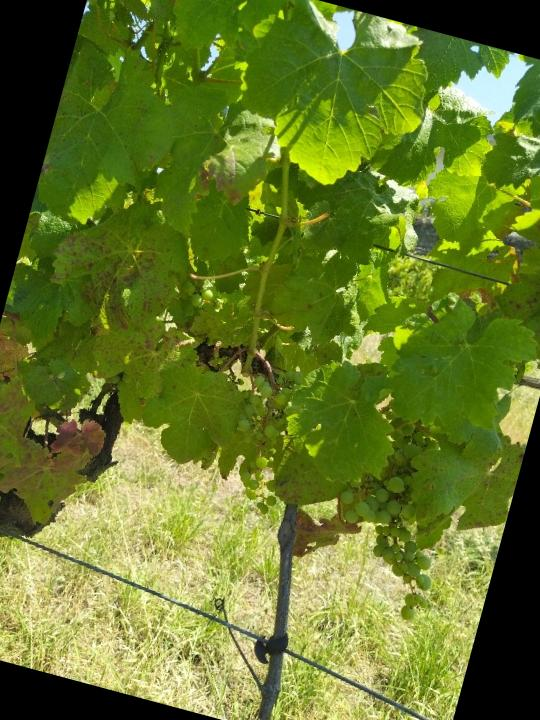grape: (312, 401, 479, 627)
